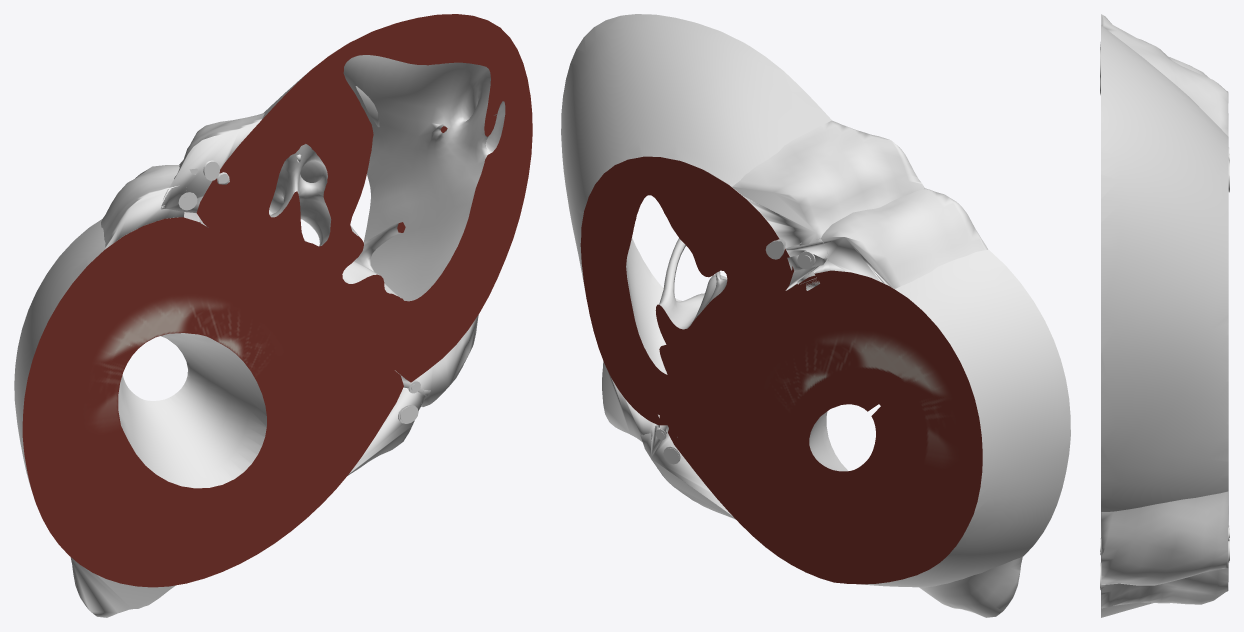
File: case01-muscle.glb
The picture shows the model from 3 angles, left to right: view 1: azimuth 30°, elevation 25°; view 2: azimuth 150°, elevation 25°; view 3: azimuth 270°, elevation 25°; orthographic projection. The views are drawn at different scales.
Parts seen in each view (by area): view 1: case_s3_myocardium, case_s3_myocardium_fat; view 2: case_s3_myocardium, case_s3_myocardium_fat; view 3: case_s3_myocardium, case_s3_myocardium_fat.
Boxes of the visible parts, x1,y1,x2,y2 form: case_s3_myocardium: [14, 14, 532, 587]; case_s3_myocardium_fat: [70, 113, 478, 617]; case_s3_myocardium: [561, 14, 1070, 587]; case_s3_myocardium_fat: [602, 120, 1022, 617]; case_s3_myocardium: [1101, 25, 1228, 617]; case_s3_myocardium_fat: [1101, 14, 1228, 608].
Size of the model in its own units: 2.4 by 2.36 by 0.4029.
9 materials, 1 textured.
